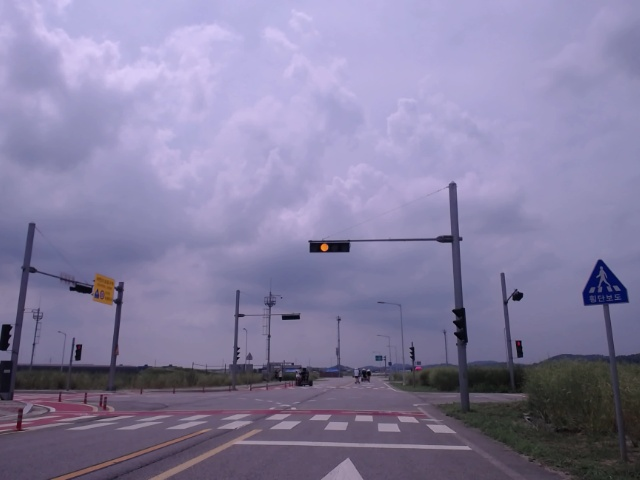orange_4: (308, 239, 353, 254)
